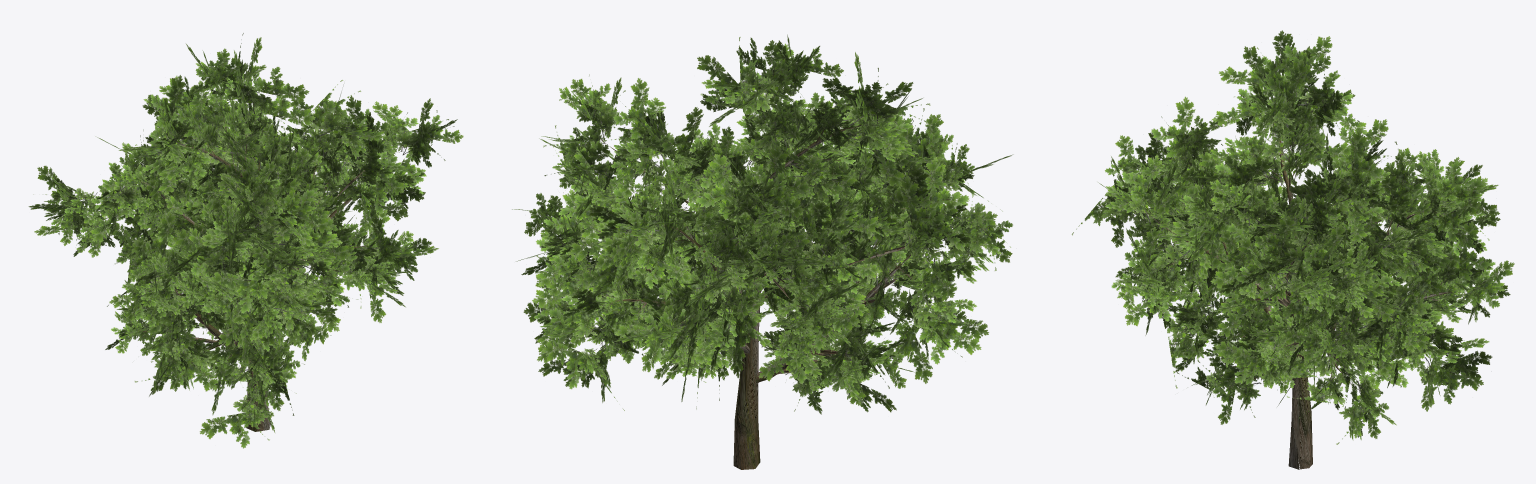
File: Tree_Large_C.glb
3 renders of one model, left to right at view 1: azimuth 30°, elevation 25°; view 2: azimuth 150°, elevation 25°; view 3: azimuth 270°, elevation 25°, orthographic. The views are drawn at different scales.
Visible parts, largest first — view 1: Tree_Large_C; view 2: Tree_Large_C; view 3: Tree_Large_C.
Part boxes in pixels (x1,y1,x2,y2): Tree_Large_C: (28,33,463,448); Tree_Large_C: (512,34,1013,469); Tree_Large_C: (1071,30,1514,469).
Bounding box in the file's own units: 7.66 × 7.5 × 7.53.
2 materials, 2 textured.
